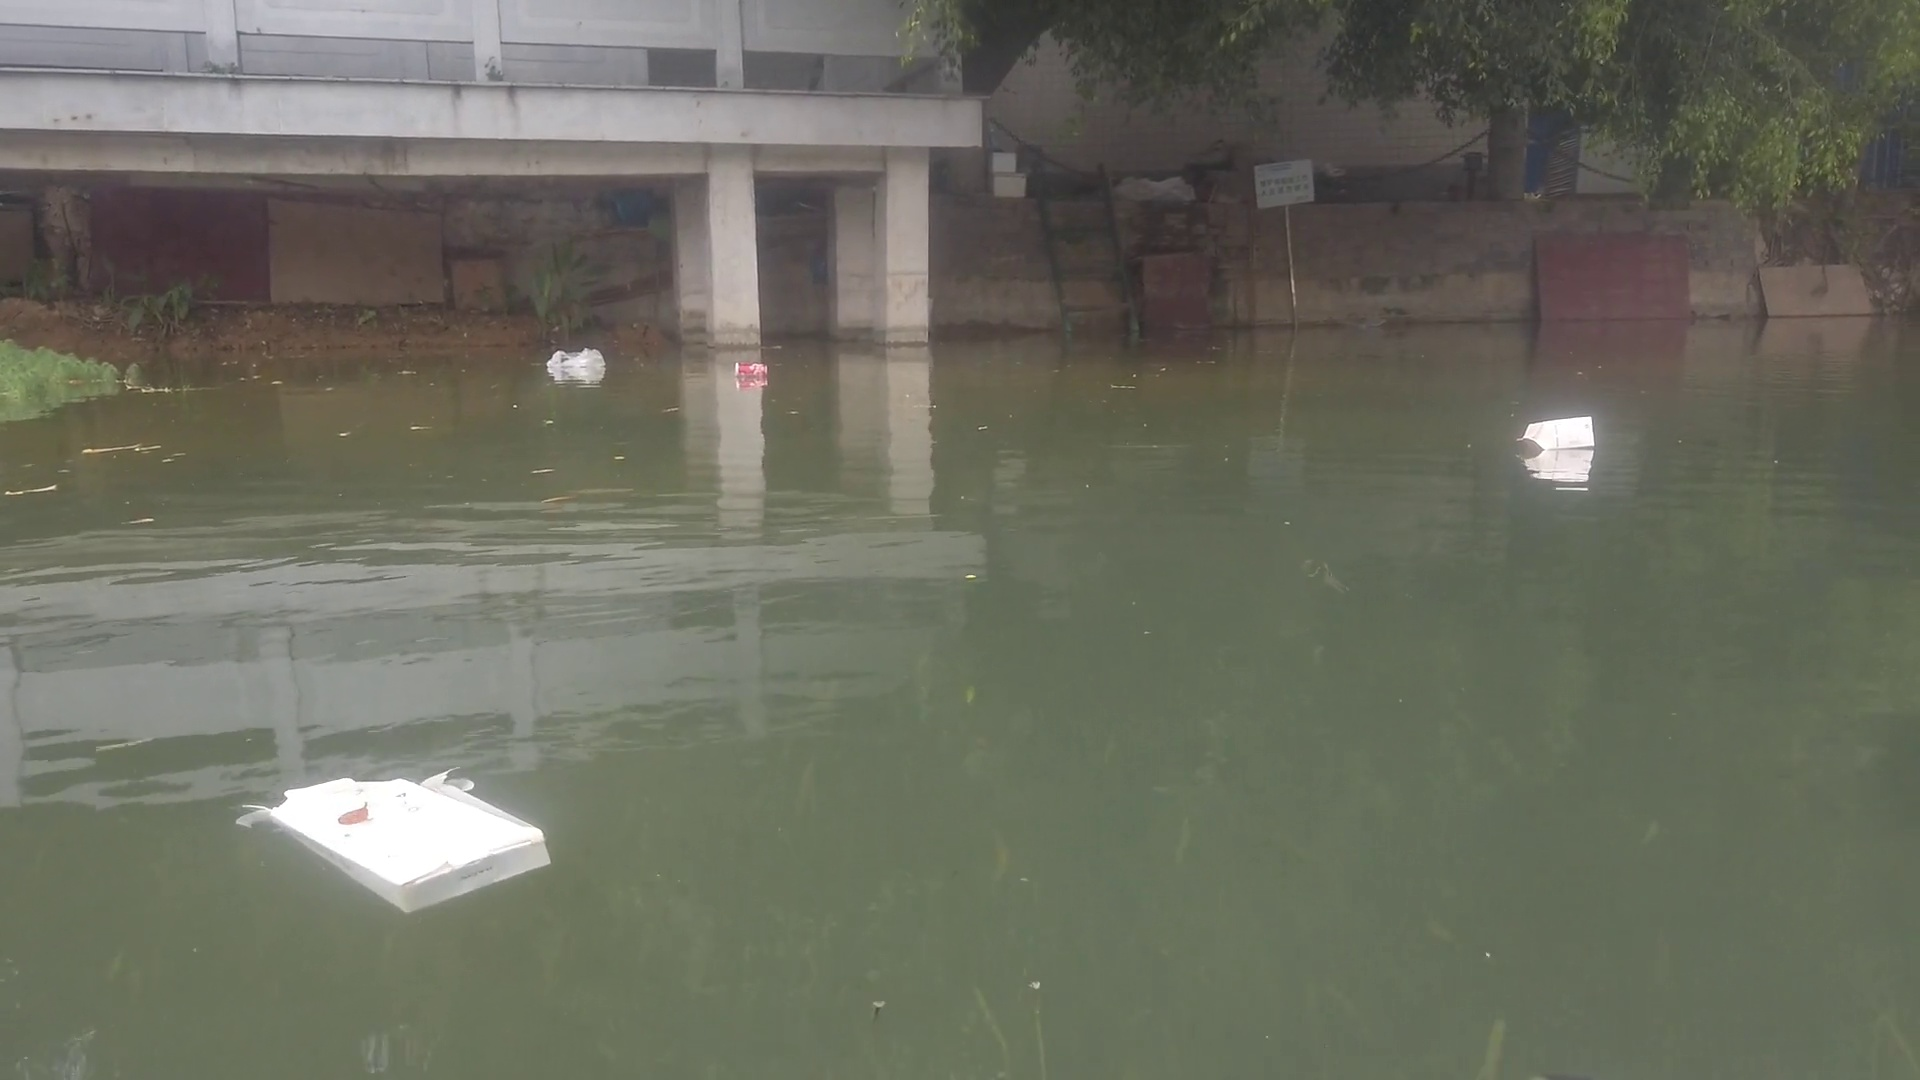bottle: (735, 357, 764, 375)
carton: (236, 749, 560, 916), (1513, 415, 1600, 448)
plastic: (542, 348, 609, 369)
